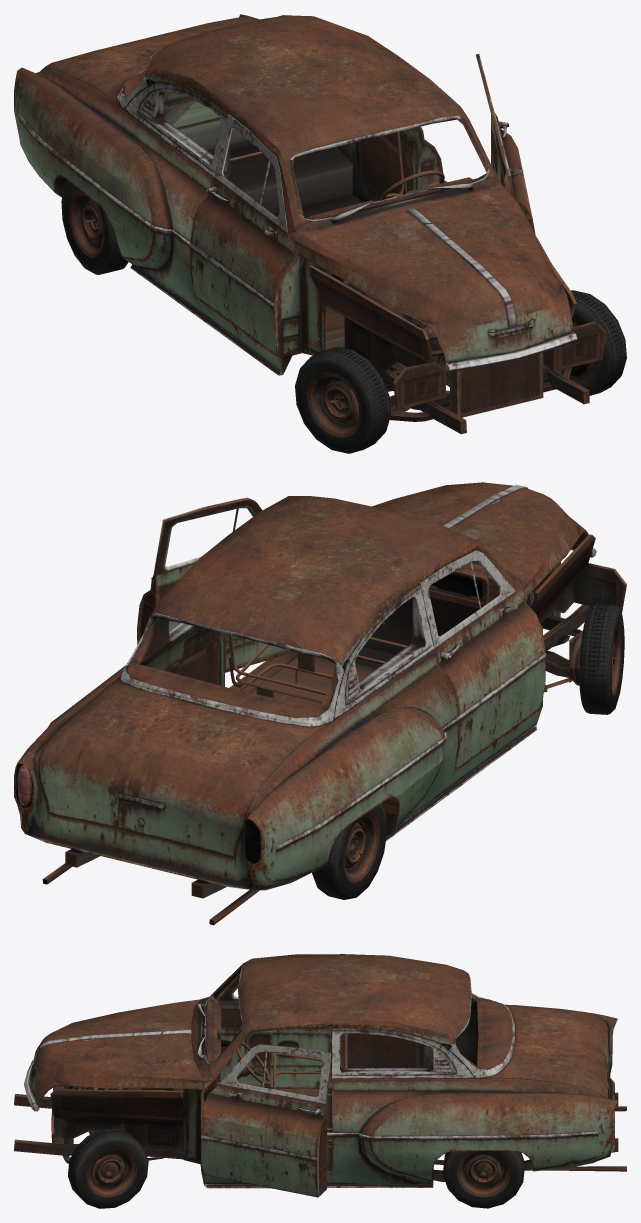
File: OldCar2.fbx
3 views of the same model, one above another, from view 1: azimuth 30°, elevation 25°; view 2: azimuth 150°, elevation 25°; view 3: azimuth 270°, elevation 25° (orthographic). The views are drawn at different scales.
Parts seen in each view (by area): view 1: LOW003_Material #110_0, LOW2_Material #108_0.001, LOW2_Material #108_0, LOW2_Material #108_0.004, LOW2_Material #108_0.002; view 2: LOW003_Material #110_0, LOW2_Material #108_0.001, LOW2_Material #108_0.004, LOW2_Material #108_0; view 3: LOW003_Material #110_0, LOW2_Material #108_0.002, LOW2_Material #108_0.003, LOW2_Material #108_0.
Boxes of the visible parts, x1,y1,x2,y2 form: LOW003_Material #110_0: [14, 14, 606, 434]; LOW2_Material #108_0.001: [295, 347, 390, 453]; LOW2_Material #108_0: [230, 132, 543, 417]; LOW2_Material #108_0.004: [61, 180, 128, 274]; LOW2_Material #108_0.002: [569, 290, 626, 395]; LOW003_Material #110_0: [14, 482, 626, 925]; LOW2_Material #108_0.001: [579, 603, 624, 714]; LOW2_Material #108_0.004: [312, 803, 386, 899]; LOW2_Material #108_0: [228, 561, 560, 703]; LOW003_Material #110_0: [14, 954, 626, 1197]; LOW2_Material #108_0.002: [68, 1128, 148, 1208]; LOW2_Material #108_0.003: [443, 1151, 524, 1208]; LOW2_Material #108_0: [53, 1033, 347, 1147].
Bounding box in the file's own units: 212 × 142 × 431.
2 materials, 2 textured.
